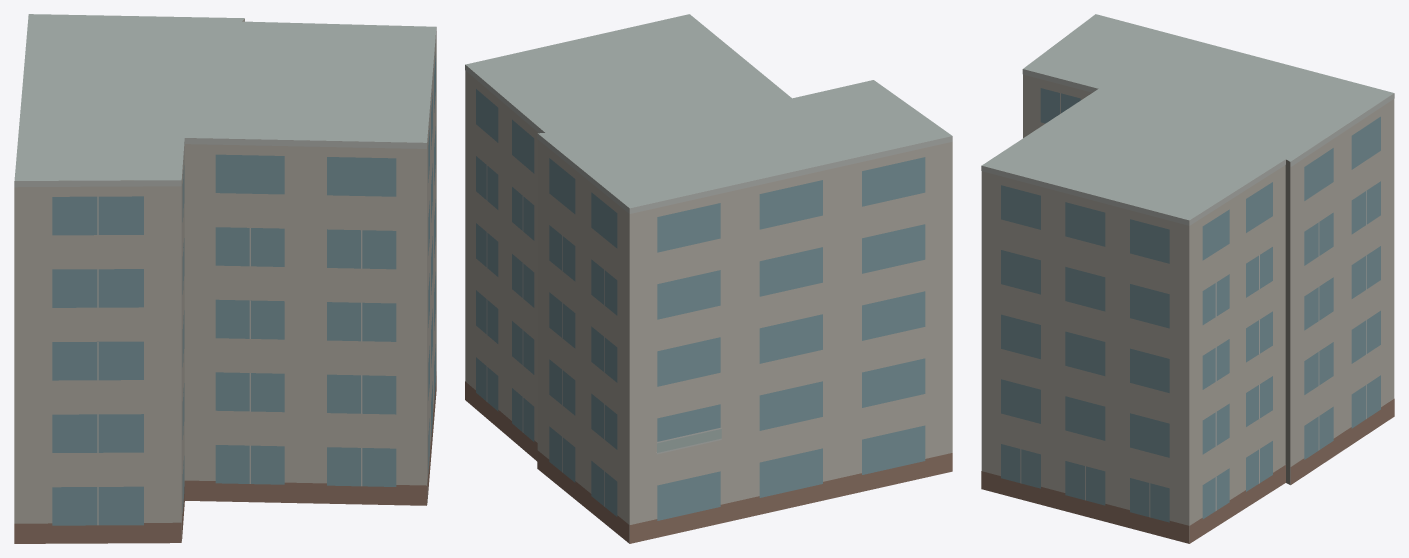
Rendered from survey-upis-32913769.glb.
3 renders of one model, left to right at view 1: azimuth 30°, elevation 25°; view 2: azimuth 150°, elevation 25°; view 3: azimuth 270°, elevation 25°, orthographic. The views are drawn at different scales.
Visible parts, largest first — view 1: survey-upis-32913769.tmp; view 2: survey-upis-32913769.tmp; view 3: survey-upis-32913769.tmp.
Part boxes in pixels (<box>): survey-upis-32913769.tmp: <box>14,14,436,543</box>; survey-upis-32913769.tmp: <box>465,14,952,543</box>; survey-upis-32913769.tmp: <box>981,14,1394,543</box>.
Size of the model in its own units: 19.72 by 14.4 by 16.67.
